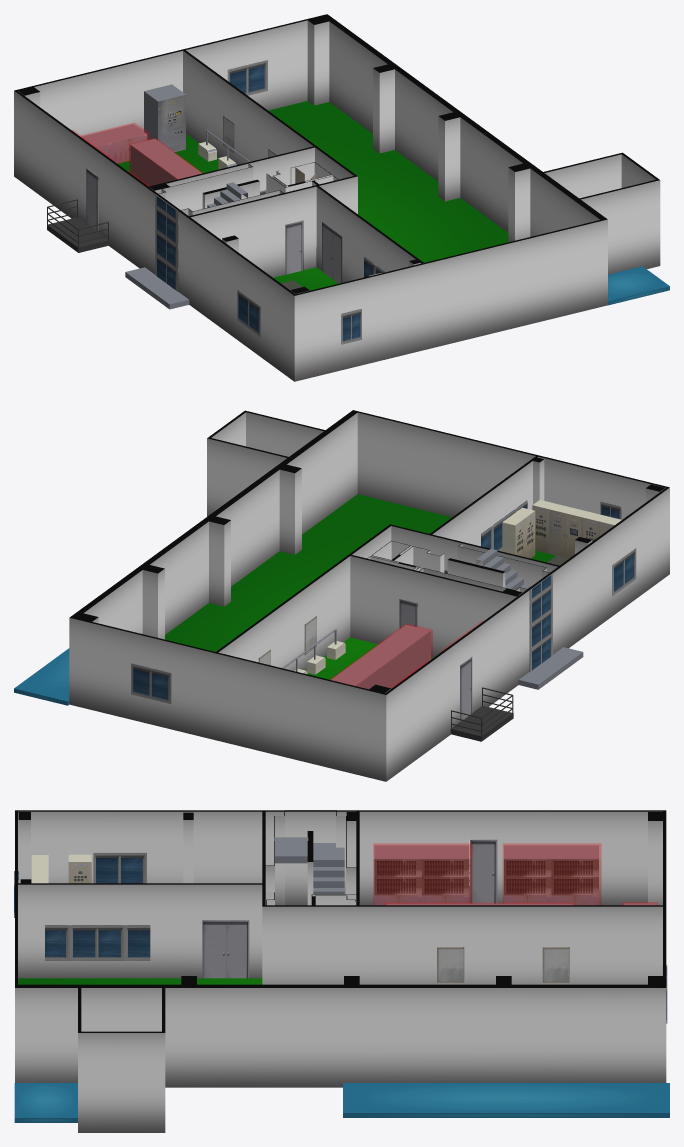
File: soulbrain_T3-3-2F.glb
3 renders of one model, top to bottom at view 1: azimuth 30°, elevation 25°; view 2: azimuth 150°, elevation 25°; view 3: azimuth 270°, elevation 25°, orthographic. The views are drawn at different scales.
Parts seen in each view (by area): view 1: Box099, Line007, T3-3-2F, Box098, Box088, equipment-T3-3-2F-004, Box192, equipment-T3-3-2F-003, Line018, Rectangle108, Box2098; view 2: Box099, Line007, T3-3-2F, Box098, equipment-T3-3-2F-004, Box191, Box088, Line018, Rectangle108, StraightStair005, Box2098; view 3: Box099, T3-3-2F, Box191, Box098, equipment-T3-3-2F-002, equipment-T3-3-2F-001, Box088, Box192, StraightStair005, Line007.
Part boxes in pixels (x1=…): Box099: x1=14, y1=14, x2=660, y2=381; Line007: x1=117, y1=101, x2=508, y2=290; T3-3-2F: x1=81, y1=84, x2=381, y2=289; Box098: x1=155, y1=60, x2=385, y2=344; Box088: x1=86, y1=168, x2=342, y2=283; equipment-T3-3-2F-004: x1=129, y1=138, x2=202, y2=185; Box192: x1=608, y1=266, x2=669, y2=305; equipment-T3-3-2F-003: x1=80, y1=123, x2=149, y2=163; Line018: x1=47, y1=217, x2=108, y2=252; Rectangle108: x1=125, y1=267, x2=189, y2=309; Box2098: x1=47, y1=199, x2=108, y2=247; Box099: x1=69, y1=410, x2=669, y2=781; Line007: x1=165, y1=494, x2=555, y2=679; T3-3-2F: x1=331, y1=500, x2=621, y2=689; Box098: x1=131, y1=500, x2=636, y2=704; equipment-T3-3-2F-004: x1=330, y1=623, x2=432, y2=688; Box191: x1=14, y1=648, x2=69, y2=705; Box088: x1=399, y1=570, x2=472, y2=721; Line018: x1=450, y1=705, x2=513, y2=741; Rectangle108: x1=518, y1=647, x2=583, y2=689; StraightStair005: x1=476, y1=548, x2=530, y2=590; Box2098: x1=451, y1=687, x2=513, y2=736; Box099: x1=15, y1=810, x2=666, y2=1132; T3-3-2F: x1=31, y1=845, x2=656, y2=905; Box191: x1=343, y1=1083, x2=669, y2=1117; Box098: x1=14, y1=810, x2=667, y2=1023; equipment-T3-3-2F-002: x1=503, y1=843, x2=601, y2=904; equipment-T3-3-2F-001: x1=373, y1=843, x2=471, y2=904; Box088: x1=202, y1=839, x2=497, y2=978; Box192: x1=14, y1=1083, x2=77, y2=1122; StraightStair005: x1=274, y1=837, x2=344, y2=894; Line007: x1=18, y1=978, x2=262, y2=984.
Bounding box in the file's own units: 21.67 × 4.46 × 25.02.
29 materials, 24 textured.
